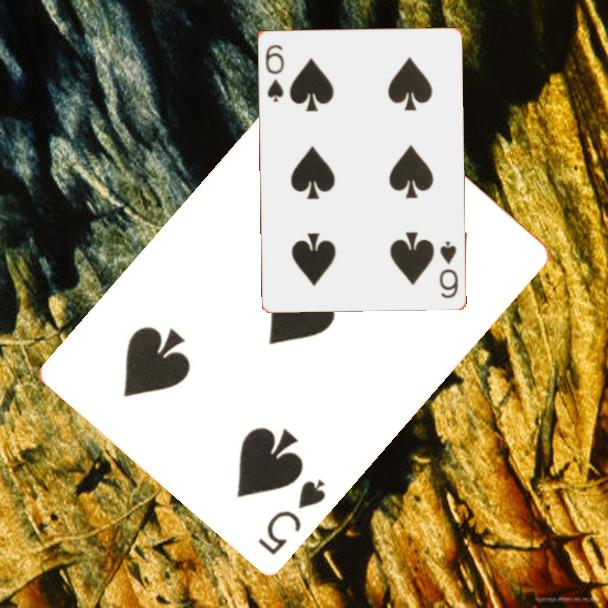s05: (254, 476, 329, 559)
s06: (435, 237, 461, 301), (262, 41, 287, 105)
